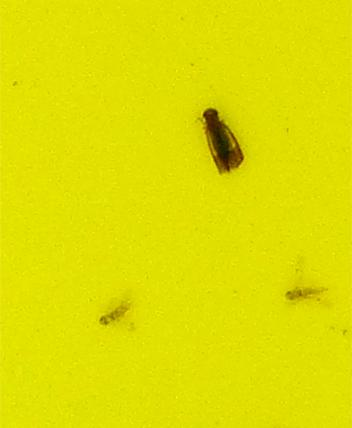Hemiptera: (197, 100, 252, 177), (100, 300, 128, 328)
